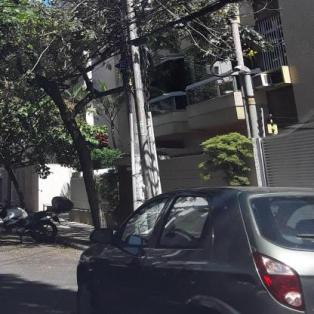Poste: (98, 0, 171, 194)
